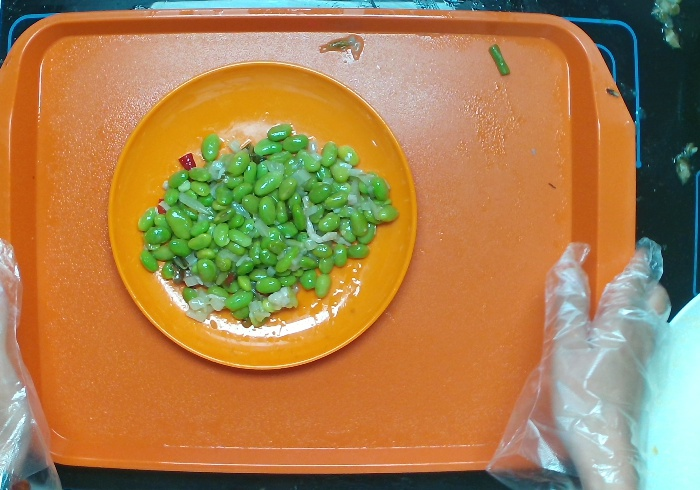HZYJPL-Ju_Huang_Yuan_Pan: (106, 59, 417, 371)
